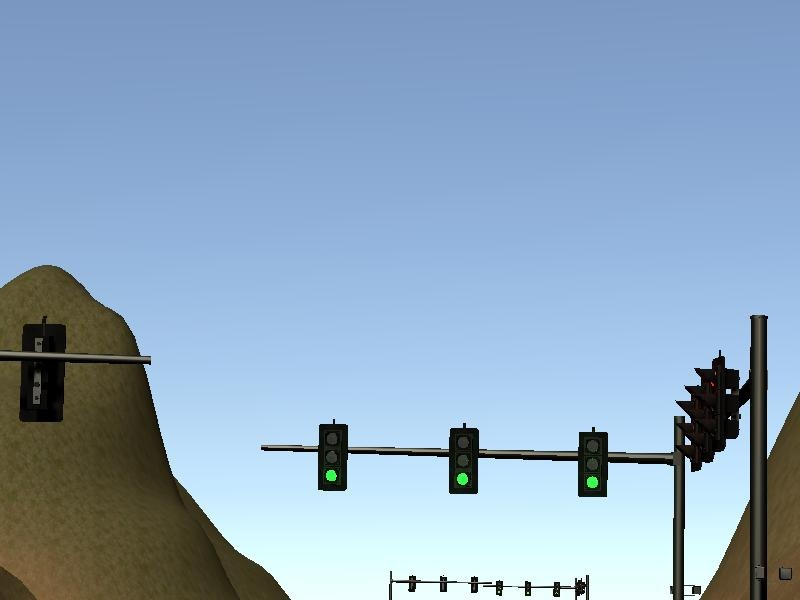green: (449, 427, 478, 495), (318, 425, 348, 490), (579, 431, 608, 498)
